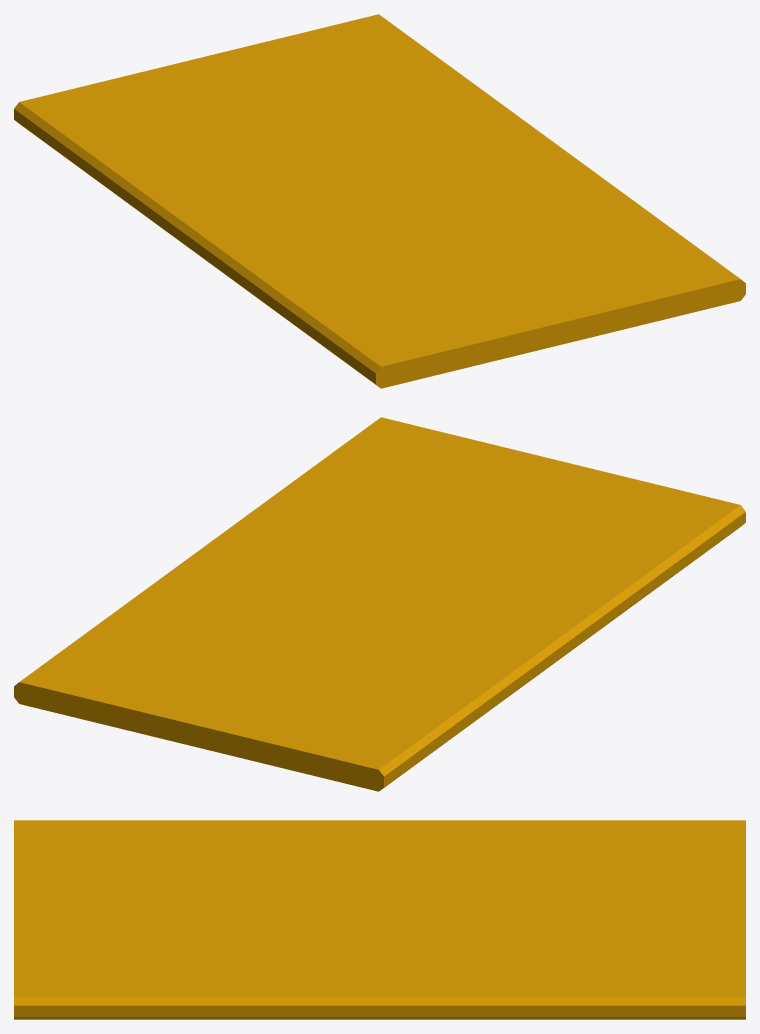
File: tramdoorleaf-canonical.obj
3 views of the same model, one above another, from view 1: azimuth 30°, elevation 25°; view 2: azimuth 150°, elevation 25°; view 3: azimuth 270°, elevation 25° (orthographic).
Visible parts, largest first — view 1: LeafFrame; view 2: LeafFrame; view 3: LeafFrame.
Part boxes in pixels (x1=…): LeafFrame: x1=14, y1=14, x2=745, y2=388; LeafFrame: x1=14, y1=417, x2=745, y2=791; LeafFrame: x1=14, y1=820, x2=745, y2=1019.
Size of the model in its own units: 124 by 7 by 210.
